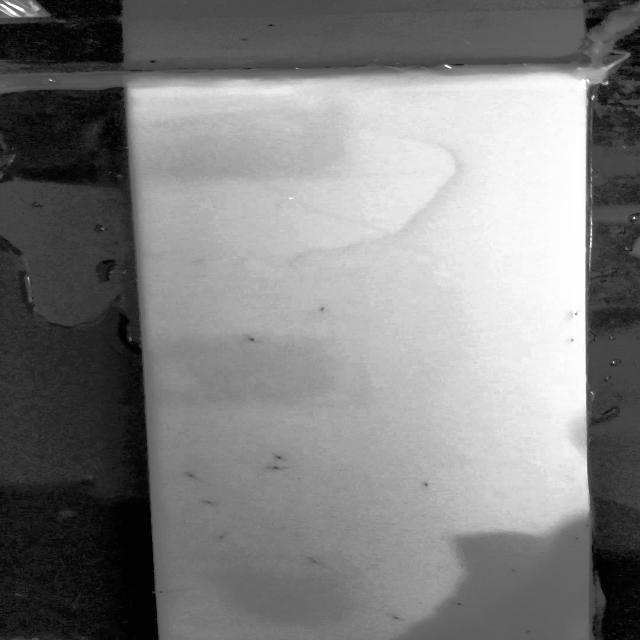shrimp: (206, 532, 244, 546), (446, 600, 482, 613), (152, 585, 180, 598), (196, 498, 225, 510), (268, 451, 290, 465), (503, 563, 524, 576), (181, 470, 203, 482), (266, 464, 290, 474), (516, 626, 540, 636), (243, 334, 261, 347), (306, 556, 324, 568), (415, 480, 438, 489), (390, 613, 407, 623), (568, 534, 582, 546)
